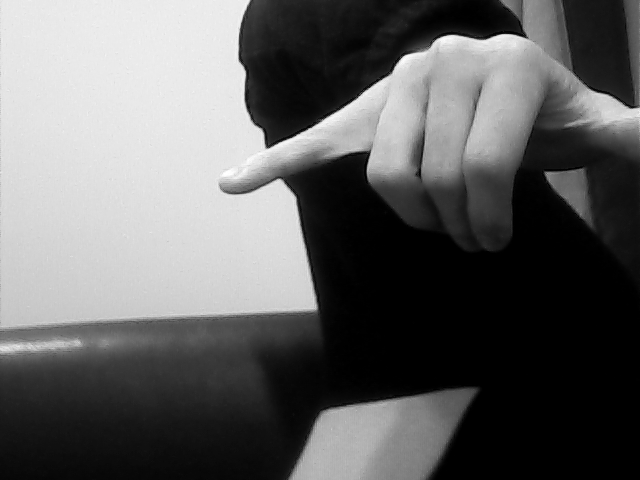aloha: (221, 30, 640, 254)
